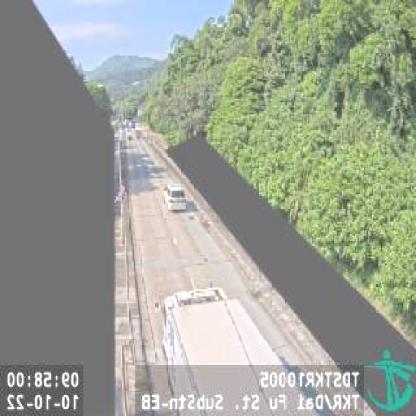Car: (163, 182, 185, 210)
Truck: (154, 286, 322, 416)
